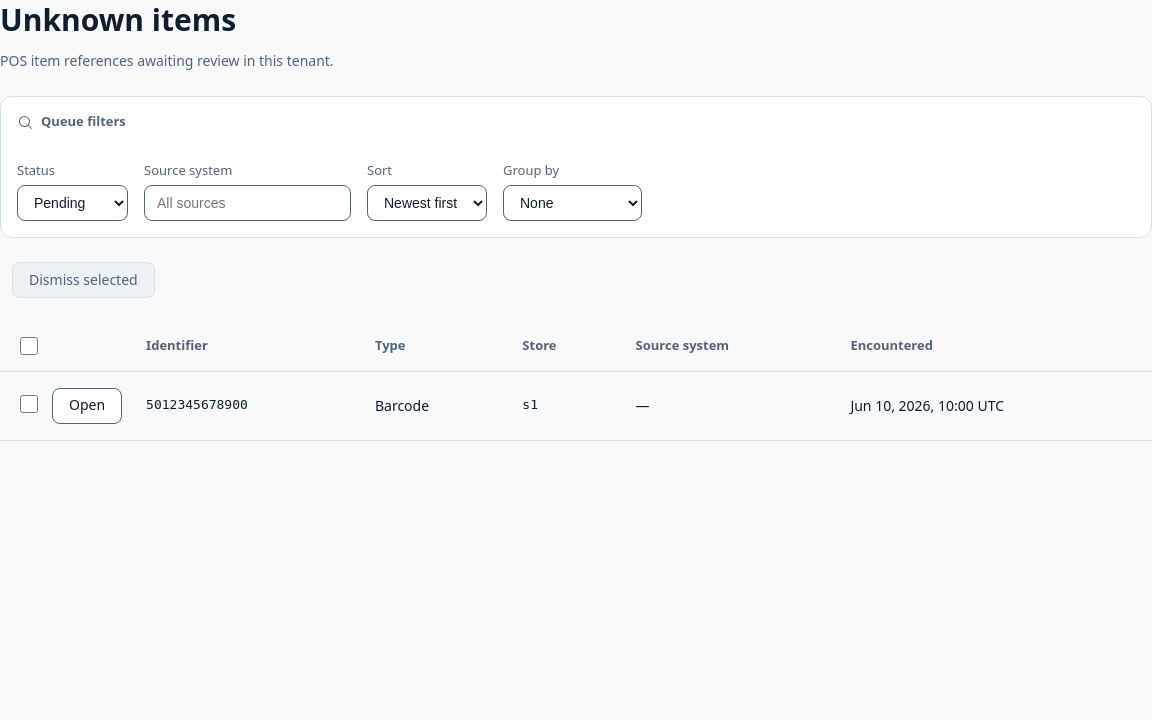
Test case: create product from an unknown item › success: sends trimmed name + tax category, closes and reports on the queue
Click the button with aria-label "Open 5012345678900": (87,406) [52, 388, 122, 424]
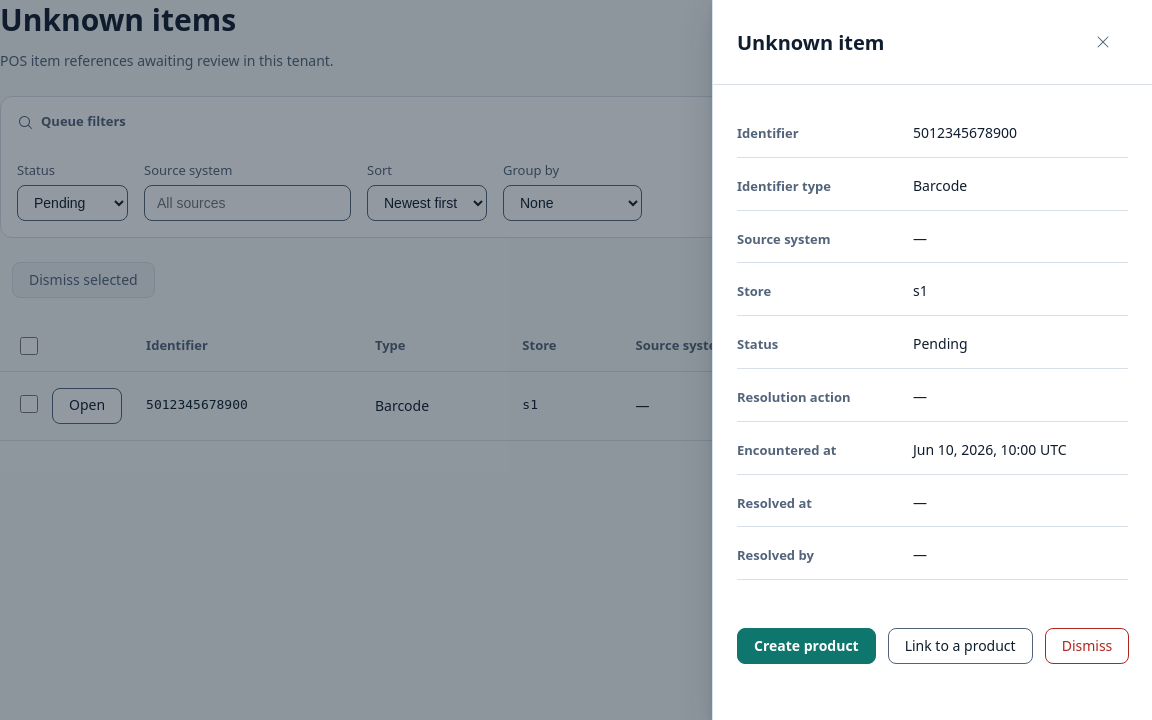
Now the dialog "Unknown item" shows "Identifier type", box [737, 177, 831, 195]
Click the button "Create product": (806,646) [737, 628, 876, 664]
(page scrolled)
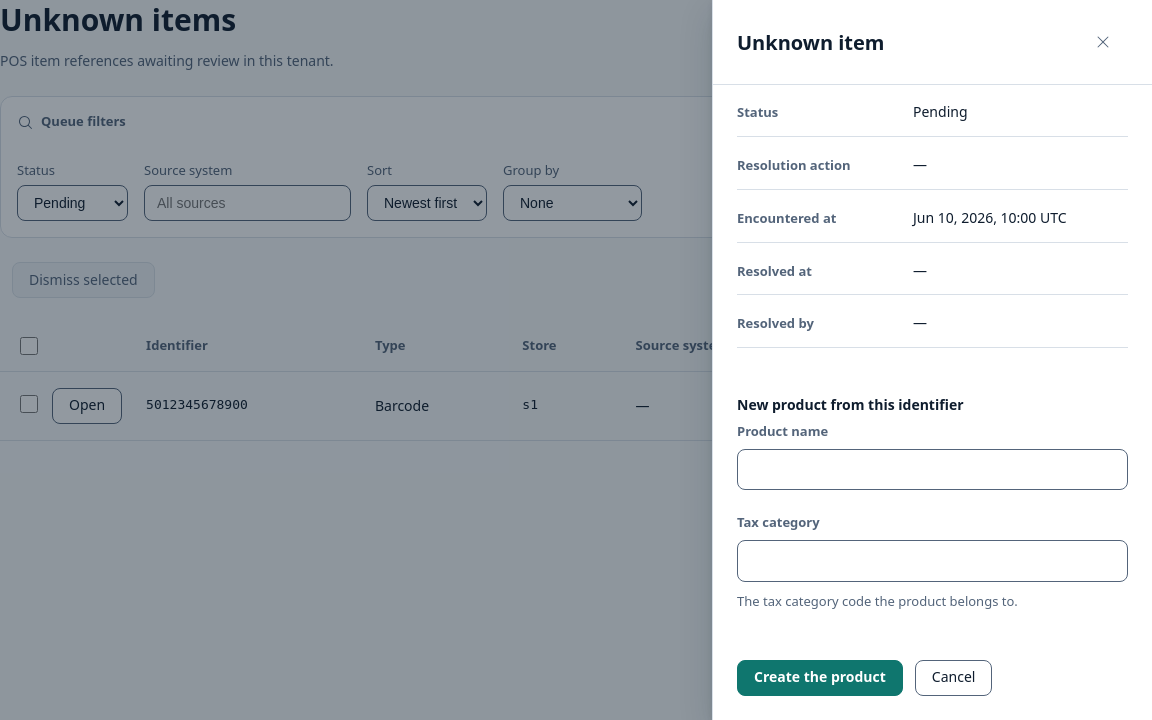
In the field labelled "Product name": (932,470) [737, 449, 1128, 490], type "  Sparkling water 1L "
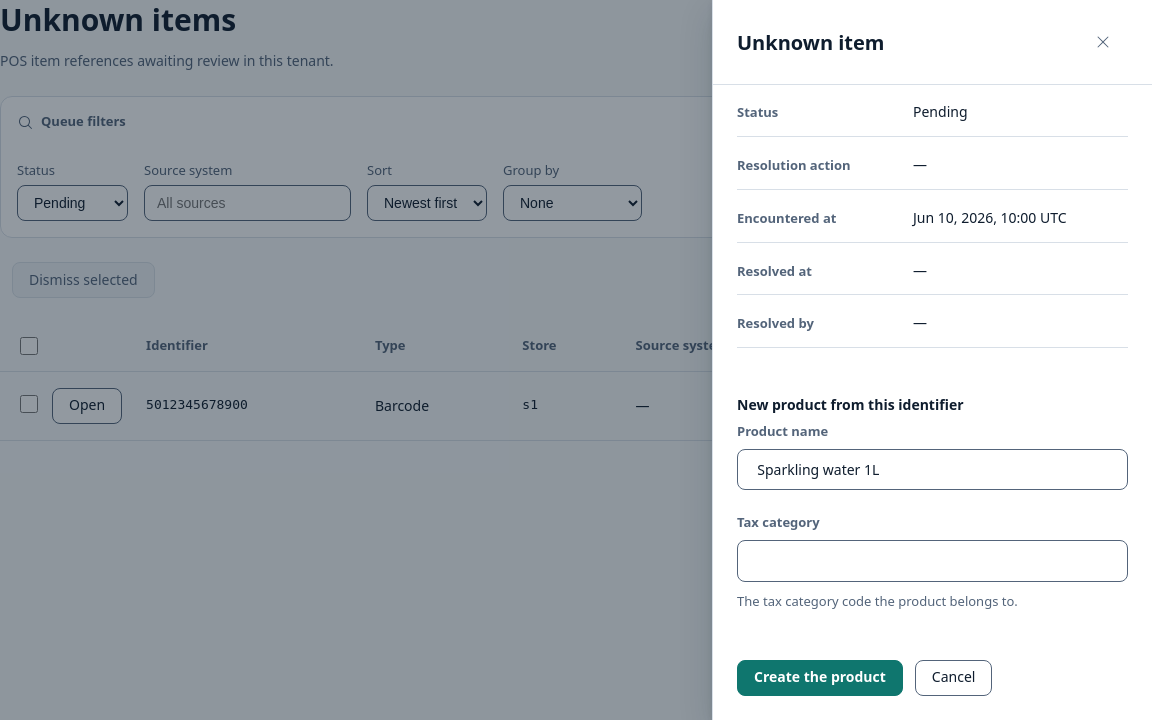
In the field labelled "Tax category": (932,561) [737, 540, 1128, 582], type "VAT14"
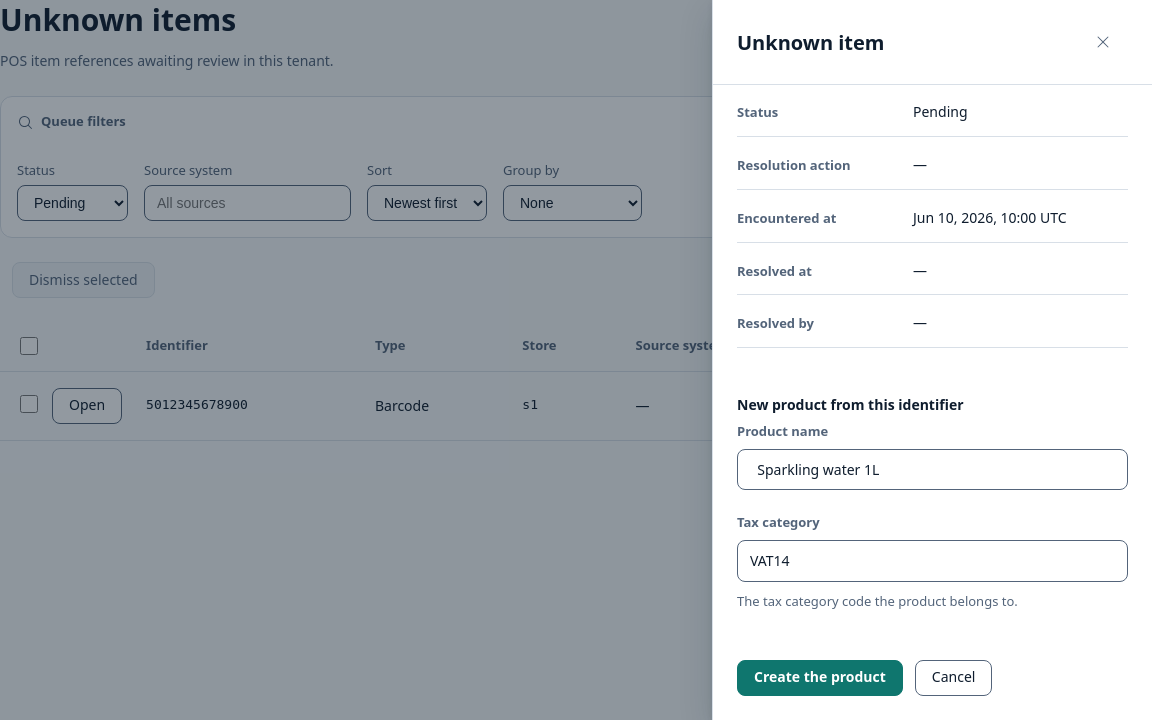
Click the button "Create the product": (820,678) [737, 660, 903, 696]
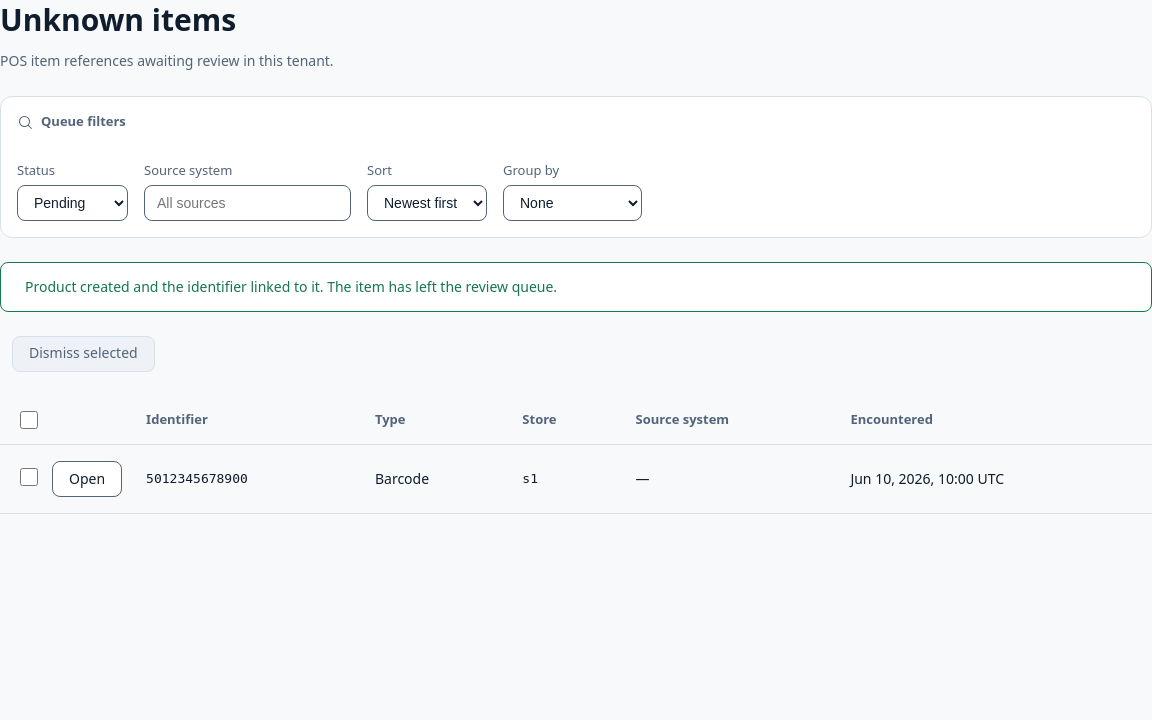
Now the dialog is gone
Now the text "Product created" is shown, box [25, 277, 557, 296]
